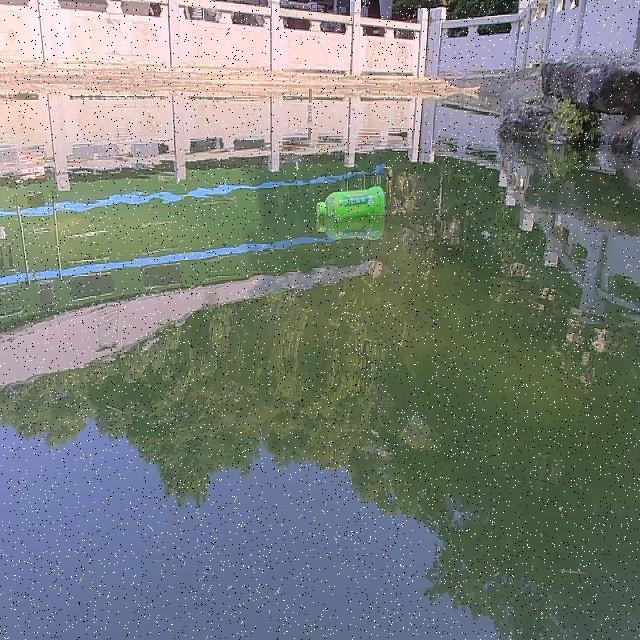Bottle: (314, 184, 388, 220)
